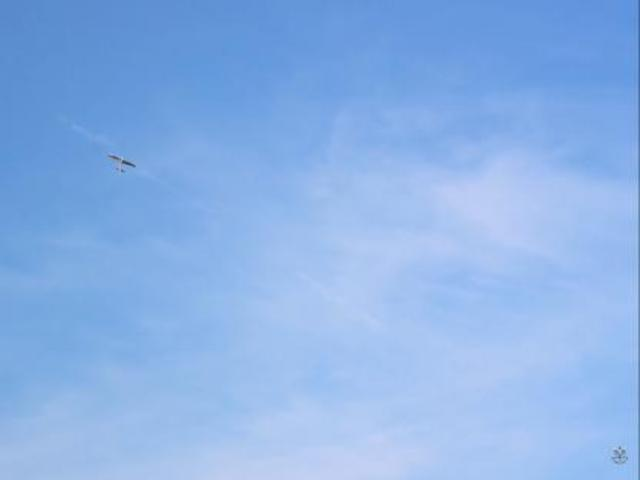uav: (105, 153, 138, 174)
